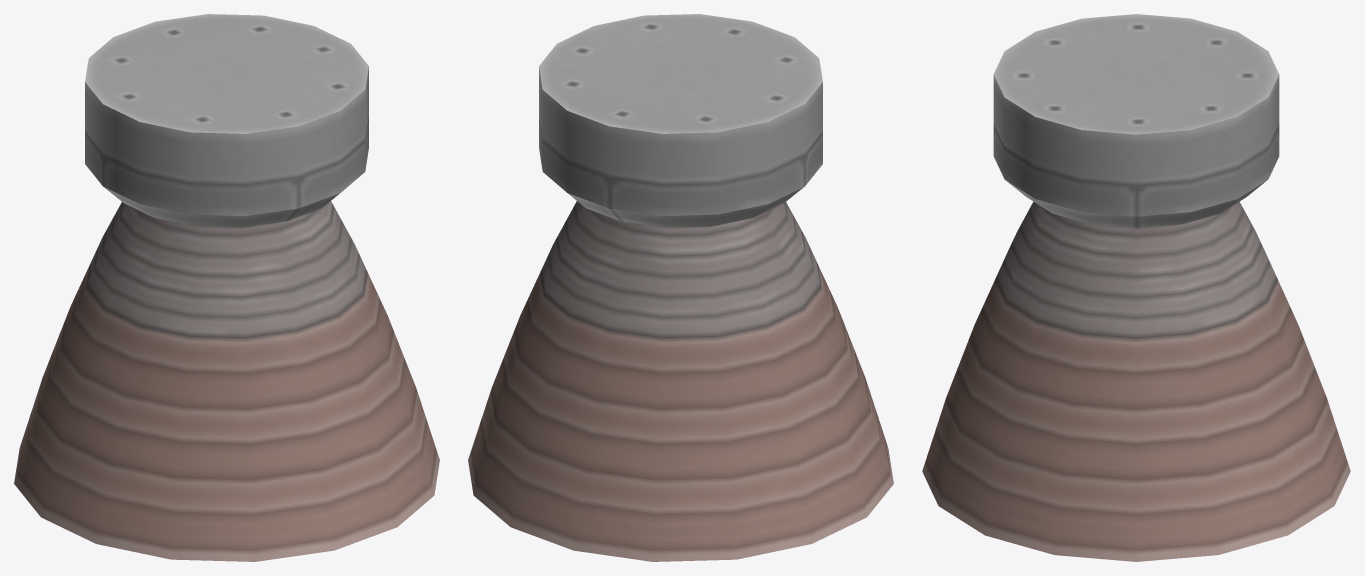
File: Eridani_Engine_1.obj
3 views of the same model, side by side, from view 1: azimuth 30°, elevation 25°; view 2: azimuth 150°, elevation 25°; view 3: azimuth 270°, elevation 25° (orthographic).
Parts seen in each view (by area): view 1: Eridani_Engine_1; view 2: Eridani_Engine_1; view 3: Eridani_Engine_1.
Part boxes in pixels (box(x1,y1,x2,y2)): Eridani_Engine_1: box(14, 14, 439, 561); Eridani_Engine_1: box(468, 14, 893, 561); Eridani_Engine_1: box(922, 14, 1350, 561).
Bounding box in the file's own units: 0.225 × 0.23 × 0.225.
